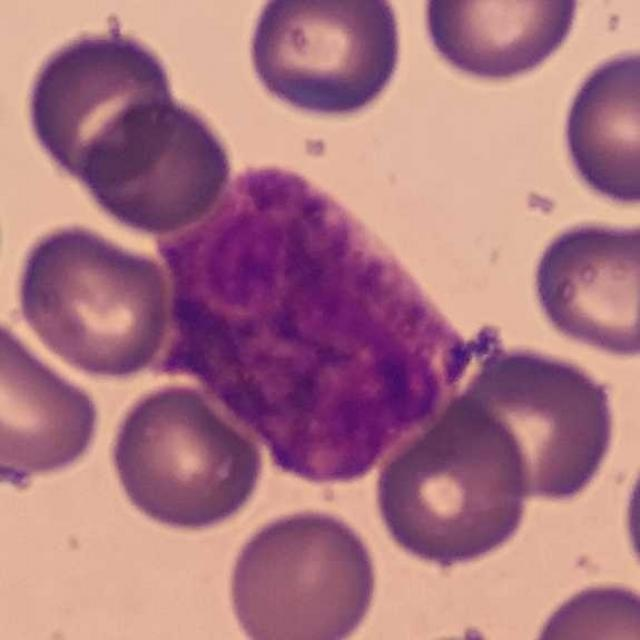Neutrophil: (144, 154, 478, 502)
RBC: (368, 395, 536, 572), (448, 340, 621, 507), (19, 20, 181, 191), (8, 218, 176, 382), (105, 378, 267, 536), (75, 90, 237, 236), (222, 503, 382, 640), (241, 0, 408, 122), (0, 308, 105, 487), (525, 210, 640, 361), (415, 0, 587, 87), (555, 44, 640, 210), (523, 575, 640, 640), (615, 474, 640, 570)
